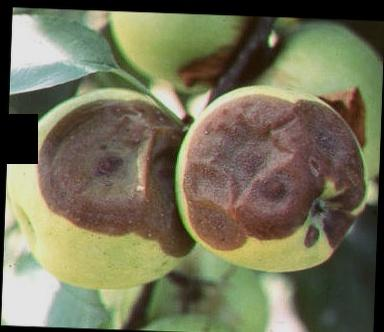rotten apple: (5, 80, 193, 297), (182, 81, 376, 275)
